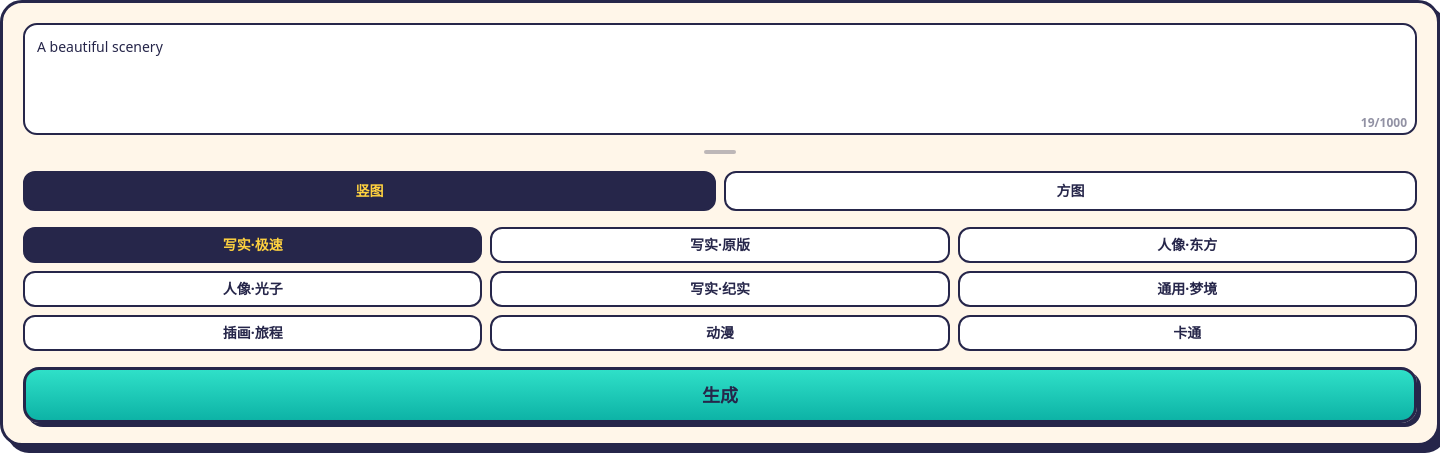
Test case: ControlPanel 模型选项与浮层规格 › 桌面端悬停展示一句话介绍与预估生成时间
The image size is (1440, 470).
Note: realistic-lcm (极速：100 秒)
Hover over the radio button labelled "写实·极速" at (253,245), box [23,227,482,263]
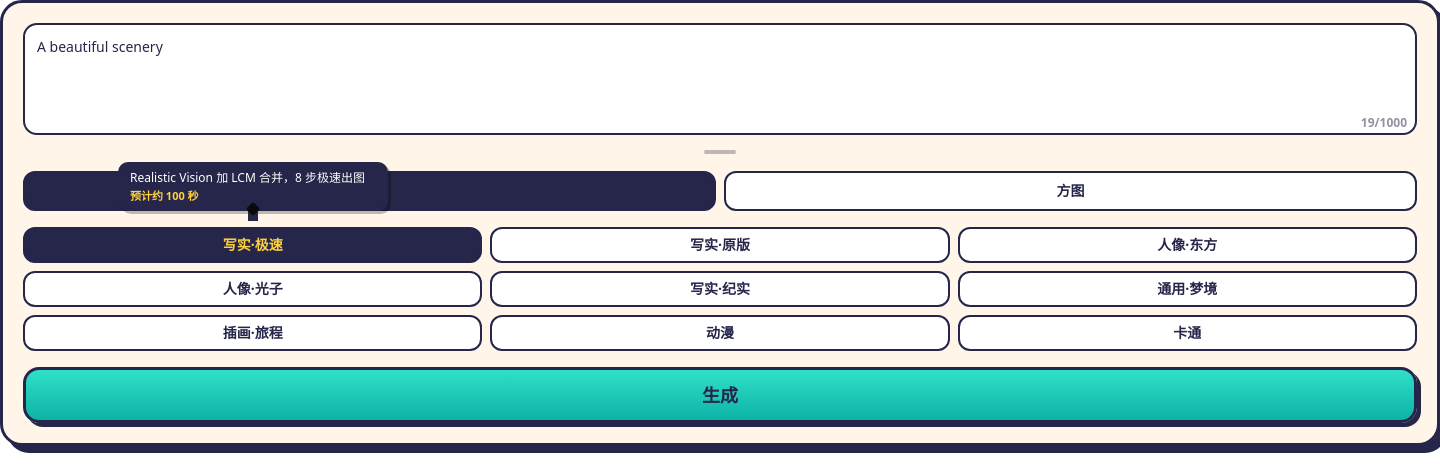
expect the tooltip shows "Realistic Vision 加 LCM 合并，8 步极速出图": met, box [130,169,365,186]
expect the tooltip shows "预计约 100 秒": met, box [130,188,199,202]
Move the pointer off the radio button labelled "写实·极速", box [23,227,482,263]
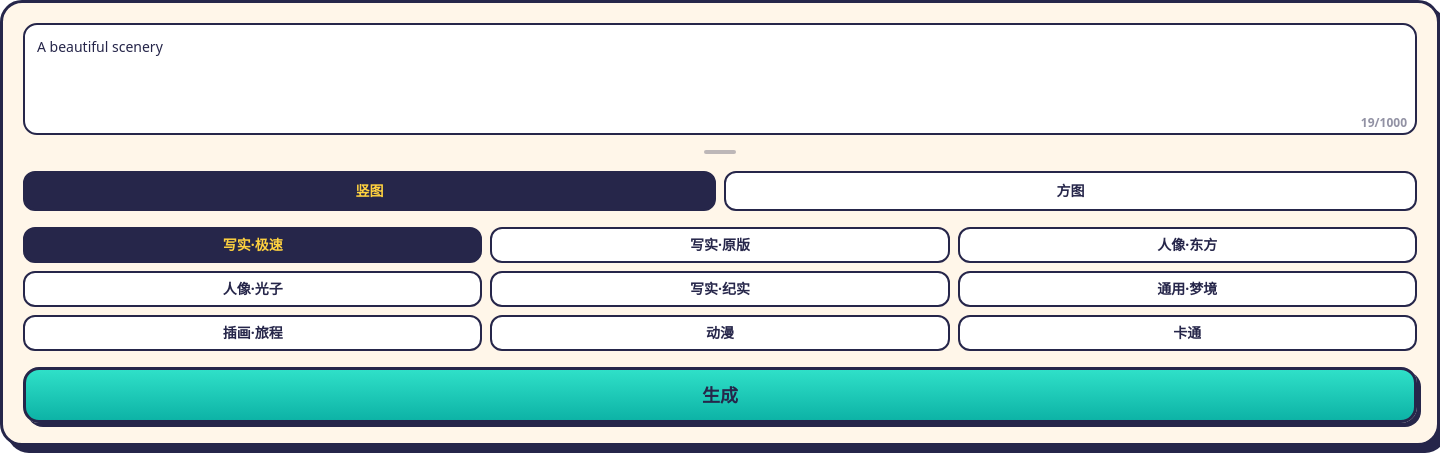
expect the tooltip "Realistic Vision 加 LCM 合并，8 步极速出图 预计约 100 秒" is gone: met
Hover over the radio button labelled "人像·光子" at (253,289), box [23,271,482,307]
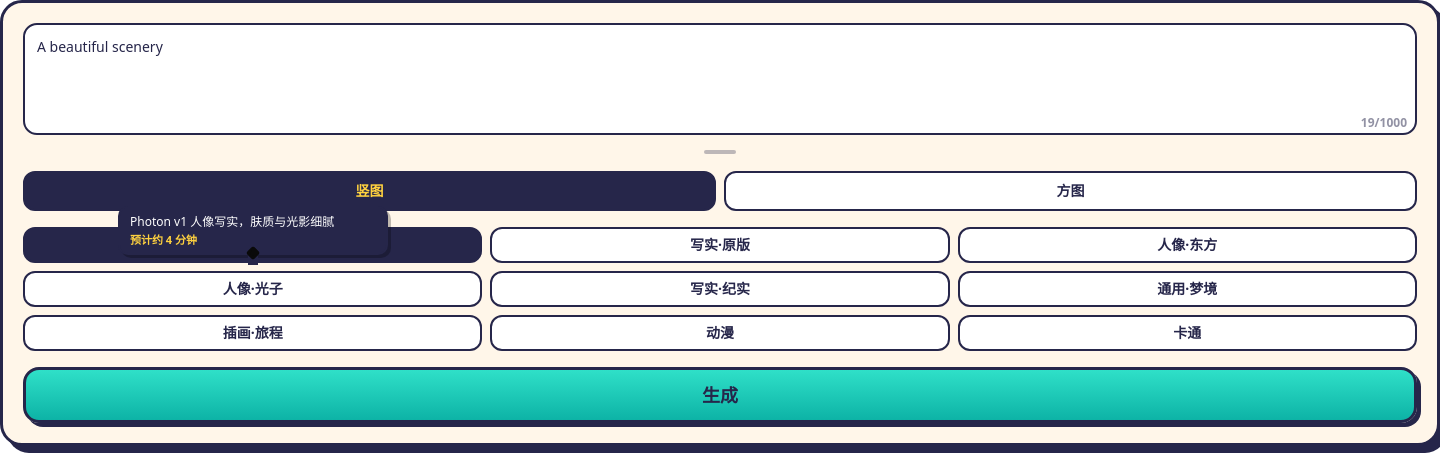
expect the tooltip shows "Photon v1 人像写实，肤质与光影细腻": met, box [130,213,334,230]
expect the tooltip shows "预计约 4 分钟": met, box [130,232,197,246]
Move the pointer off the radio button labelled "人像·光子", box [23,271,482,307]
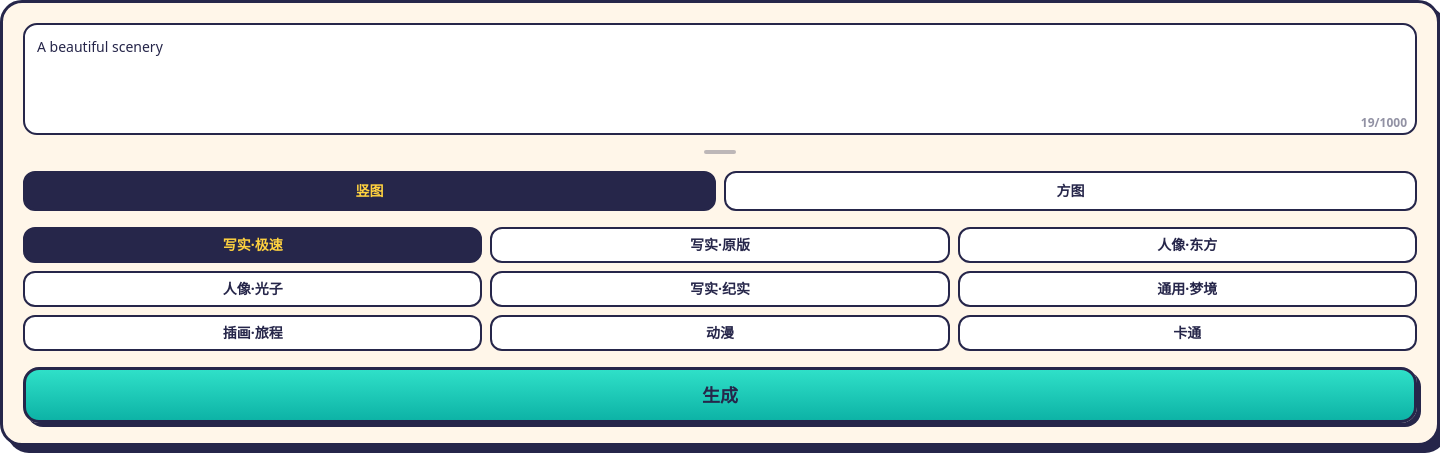
expect the tooltip "Photon v1 人像写实，肤质与光影细腻 预计约 4 分钟" is gone: met
Hover over the radio button labelled "卡通" at (1187,333), box [958,315,1417,351]
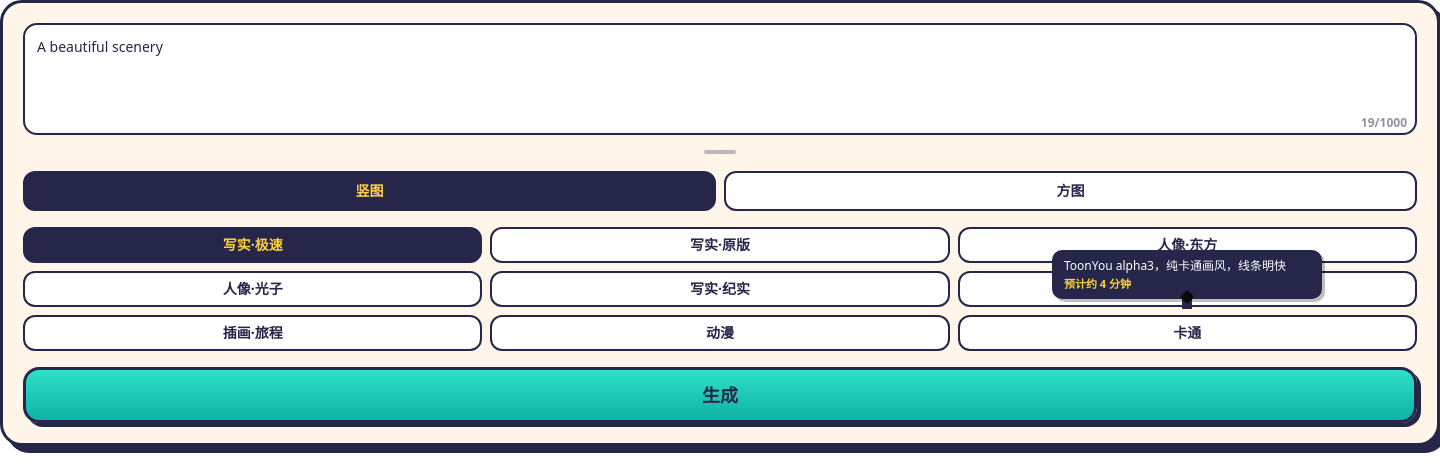
expect the tooltip shows "ToonYou alpha3，纯卡通画风，线条明快": met, box [1064,257,1286,274]
expect the tooltip shows "预计约 4 分钟": met, box [1064,276,1131,290]
Move the pointer off the radio button labelled "卡通", box [958,315,1417,351]
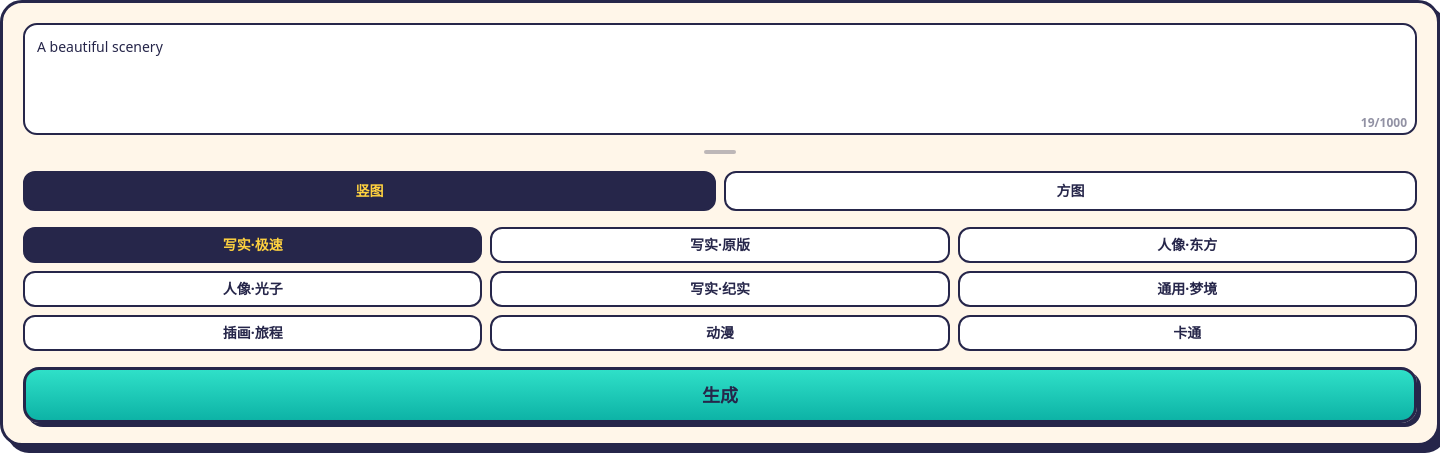
expect the tooltip "ToonYou alpha3，纯卡通画风，线条明快 预计约 4 分钟" is gone: met
